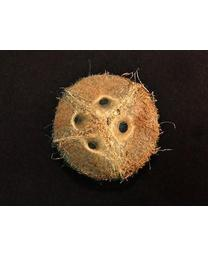coconut: (47, 72, 161, 185)
